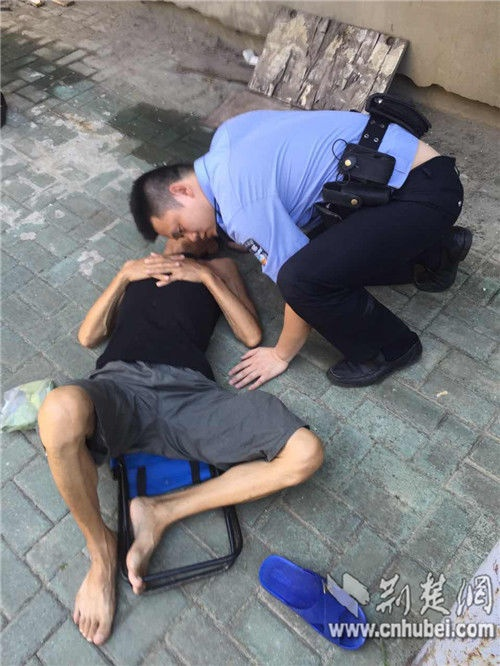falling: (23, 196, 325, 663)
